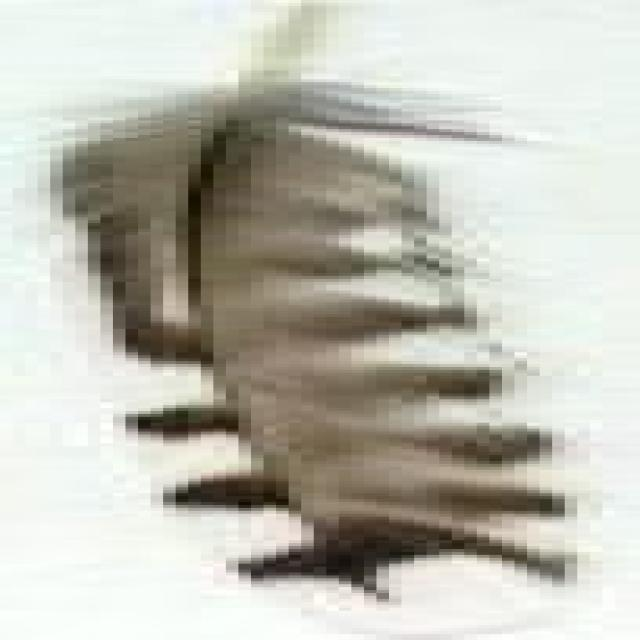feather: (54, 4, 604, 639)
